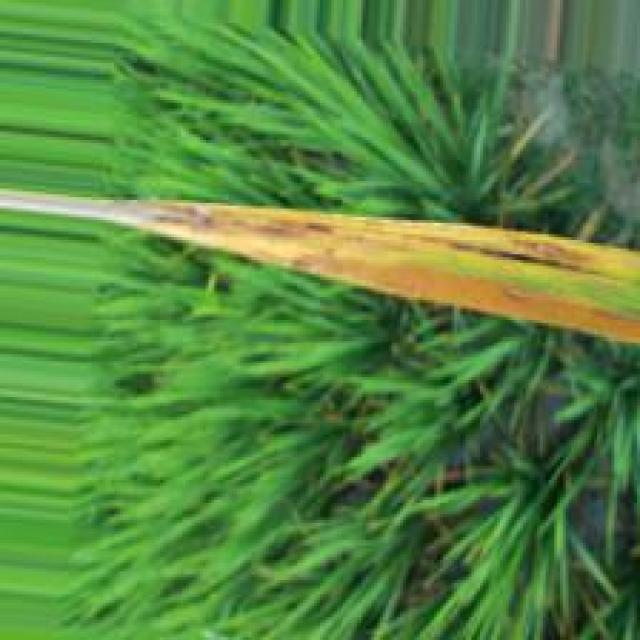Bacterial_Leaf_Blight: (0, 190, 640, 339)
